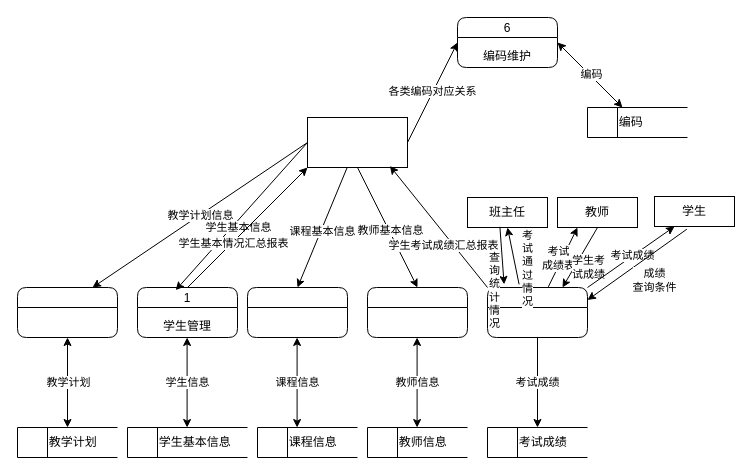
The diagram is 752 pixels wide and 475 high, and some of its shapes have lost their labels. The shapes that lost their labels are listed below. From the top down, each one's centre as x and y in pixels, then its label:
At pixel 357 142: "管理人员".
At pixel 67 312: "5 授课管理".
At pixel 297 312: "2 课程管理".
At pixel 417 312: "3 教师管理".
At pixel 537 312: "4 成绩管理".
